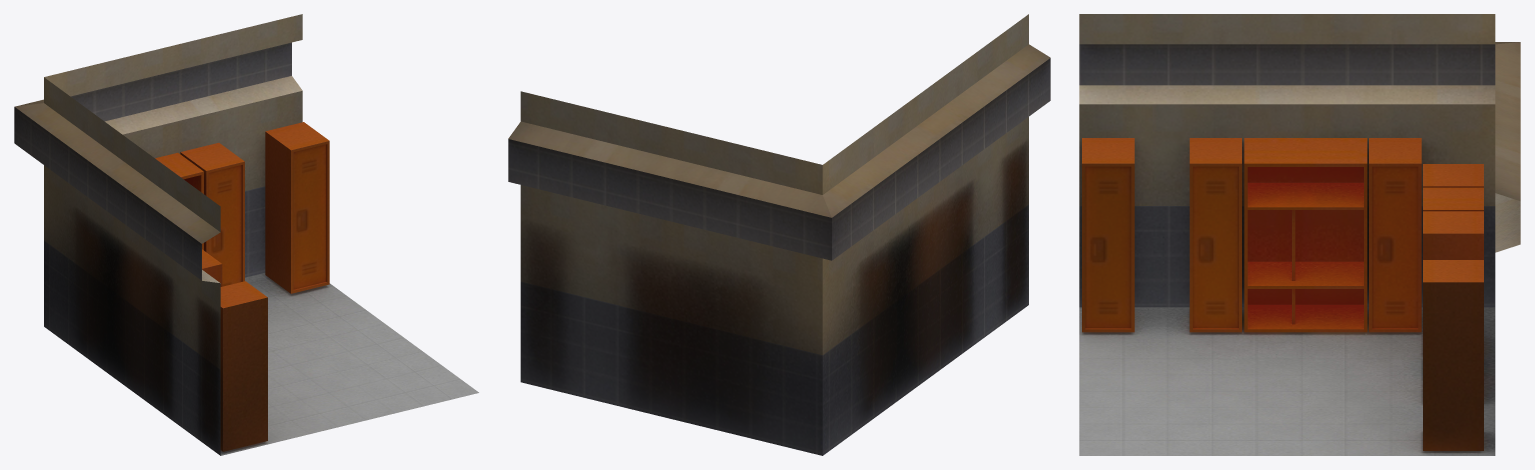
The model's file is locker_room.FBX.
3 renders of one model, left to right at view 1: azimuth 30°, elevation 25°; view 2: azimuth 150°, elevation 25°; view 3: azimuth 270°, elevation 25°, orthographic. The views are drawn at different scales.
Visible parts, largest first — view 1: Box02, Box20; view 2: Box02; view 3: Box02, Box20.
Part boxes in pixels (x1,y1,x2,y2): Box02: [14, 14, 478, 455]; Box20: [155, 122, 329, 451]; Box02: [508, 14, 1050, 455]; Box02: [1079, 14, 1520, 455]; Box20: [1082, 138, 1483, 450].
Size of the model in its own units: 176 by 151 by 206.
